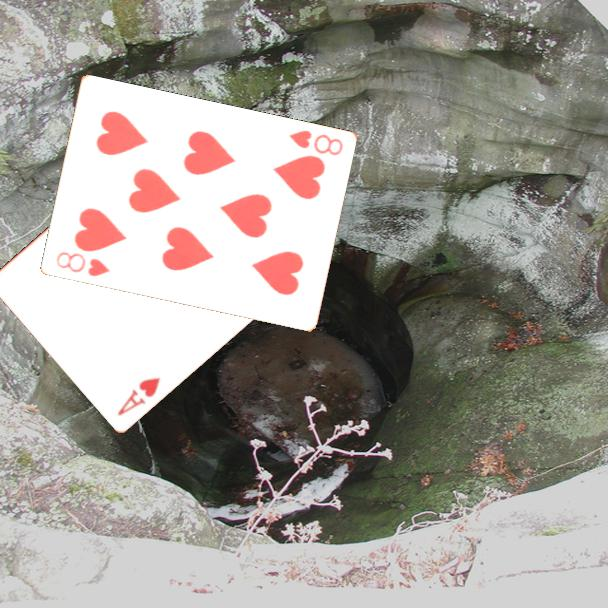h01: (114, 373, 164, 418)
h08: (285, 127, 345, 159), (52, 248, 112, 279)
